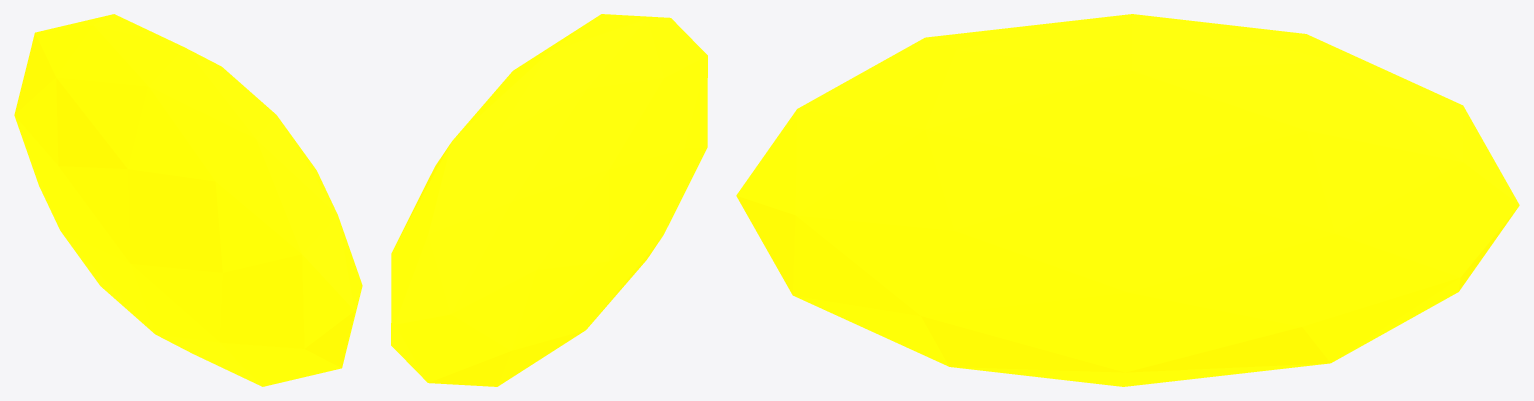
The model's file is bullet.glb.
The picture shows the model from 3 angles, left to right: view 1: azimuth 30°, elevation 25°; view 2: azimuth 150°, elevation 25°; view 3: azimuth 270°, elevation 25°; orthographic projection. The views are drawn at different scales.
Parts seen in each view (by area): view 1: Icosphere; view 2: Icosphere; view 3: Icosphere.
Part boxes in pixels (x1=…): Icosphere: x1=14, y1=14, x2=362, y2=386; Icosphere: x1=391, y1=14, x2=707, y2=386; Icosphere: x1=736, y1=14, x2=1519, y2=386.
Size of what is drawn, in the model's own units: 0.8318 by 2 by 3.83.
